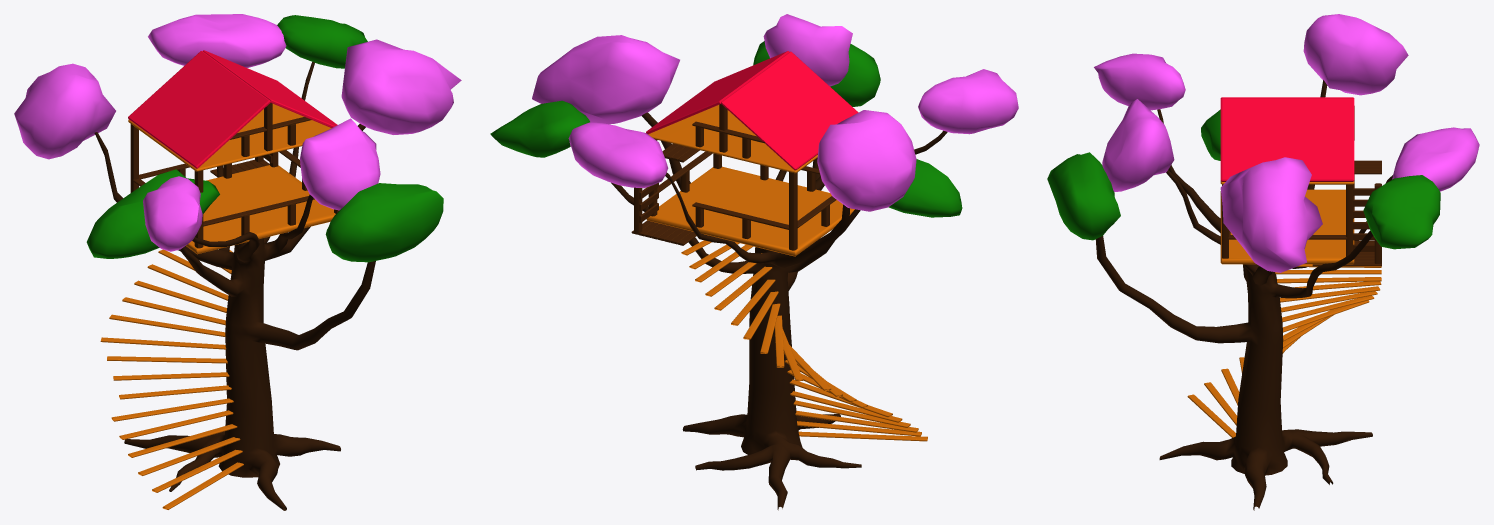
File: Treehouse.dae
3 renders of one model, left to right at view 1: azimuth 30°, elevation 25°; view 2: azimuth 150°, elevation 25°; view 3: azimuth 270°, elevation 25°, orthographic. The views are drawn at different scales.
Visible parts, largest first — view 1: Tree_house (×6); view 2: Tree_house (×6); view 3: Tree_house (×6).
Part boxes in pixels (box(x1,y1,x2,y2)): Tree_house (×6): box(14, 14, 461, 510); Tree_house (×6): box(490, 14, 1018, 510); Tree_house (×6): box(1047, 14, 1479, 510).
Size of the model in its own units: 18.26 by 17.26 by 17.43.
